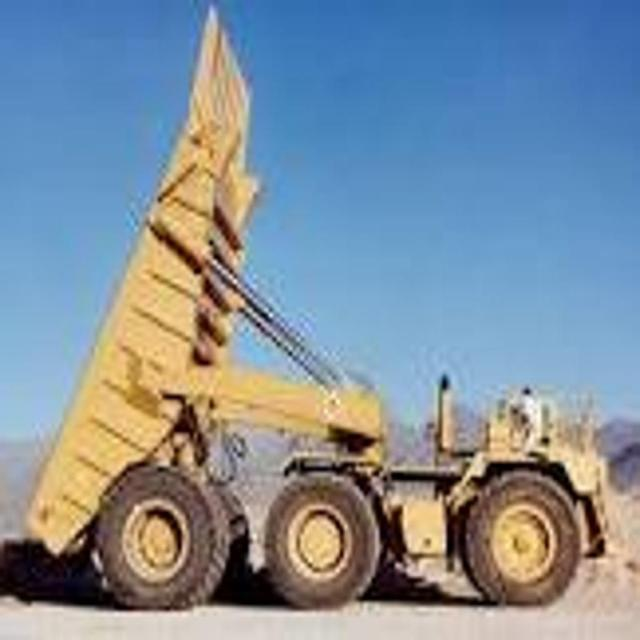dump_truck: (34, 3, 614, 638)
